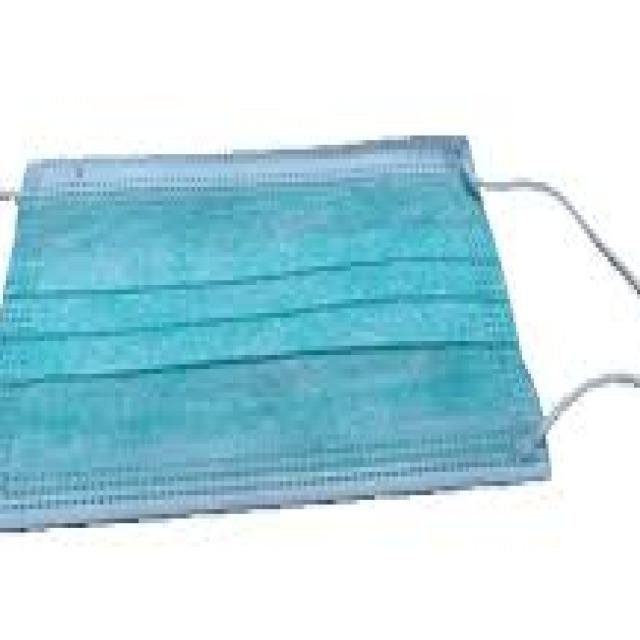organic: (12, 146, 602, 560)
